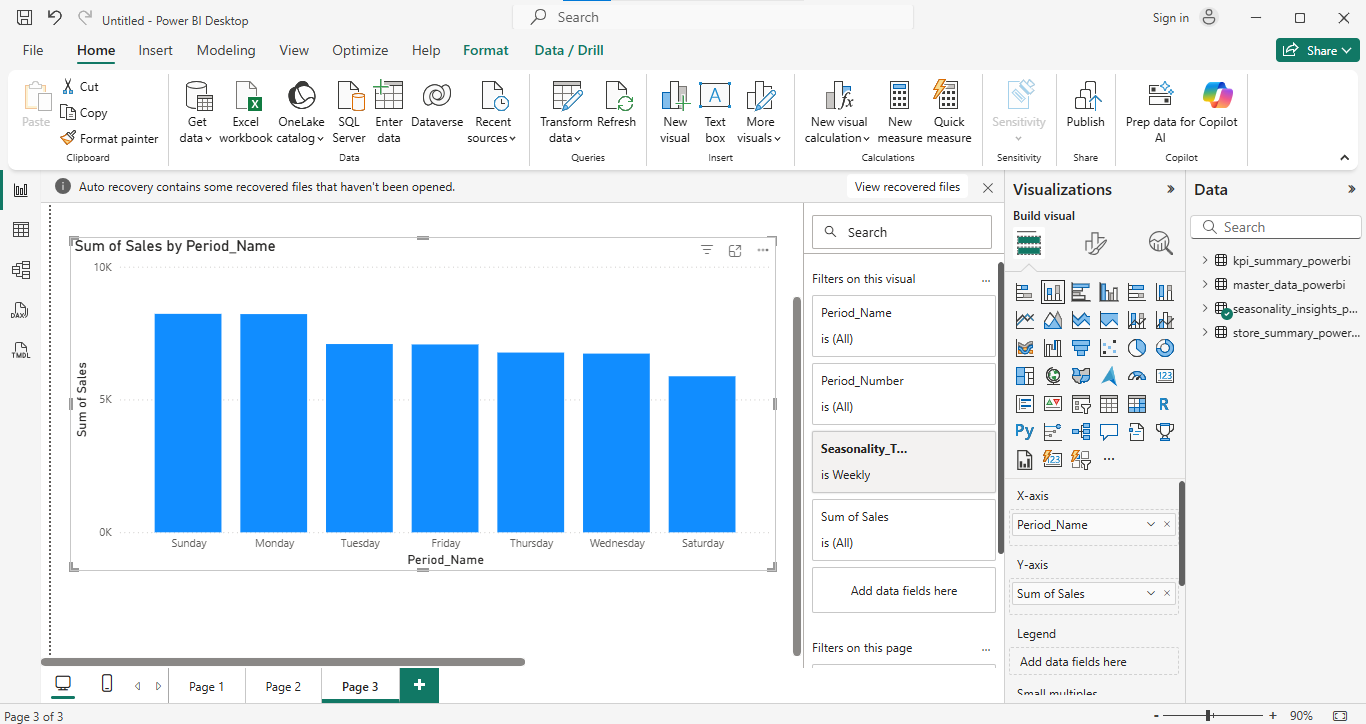

The dashboard page shown, as its layout file describes it:
{"tool":"powerbi","page":{"name":"Page 3","canvas":[1280,720],"ordinal":2},"visuals":[{"type":"columnChart","fields":{"Category":["seasonality_insights_powerbi.Period_Name"],"Y":["Sum(seasonality_insights_powerbi.Sales)"]},"box":[0,121.4,784.3,171.4],"z":0},{"type":"columnChart","fields":{"Category":["seasonality_insights_powerbi.Period_Name"],"Y":["Sum(seasonality_insights_powerbi.Sales)"]},"box":[0,349.4,784.5,371.2],"z":1000}]}

Visuals, with their boxes on the page's 1280x720 design canvas (x1, y1, x2, y2). These are canvas units, not pixel positions in the 1366x724 screenshot, which may show the page scaled, cropped or inside an application window:
columnChart - seasonality_insights_powerbi.Period_Name x Sum(seasonality_insights_powerbi.Sales): <box>0,121,784,293</box>
columnChart - seasonality_insights_powerbi.Period_Name x Sum(seasonality_insights_powerbi.Sales): <box>0,349,784,721</box>
